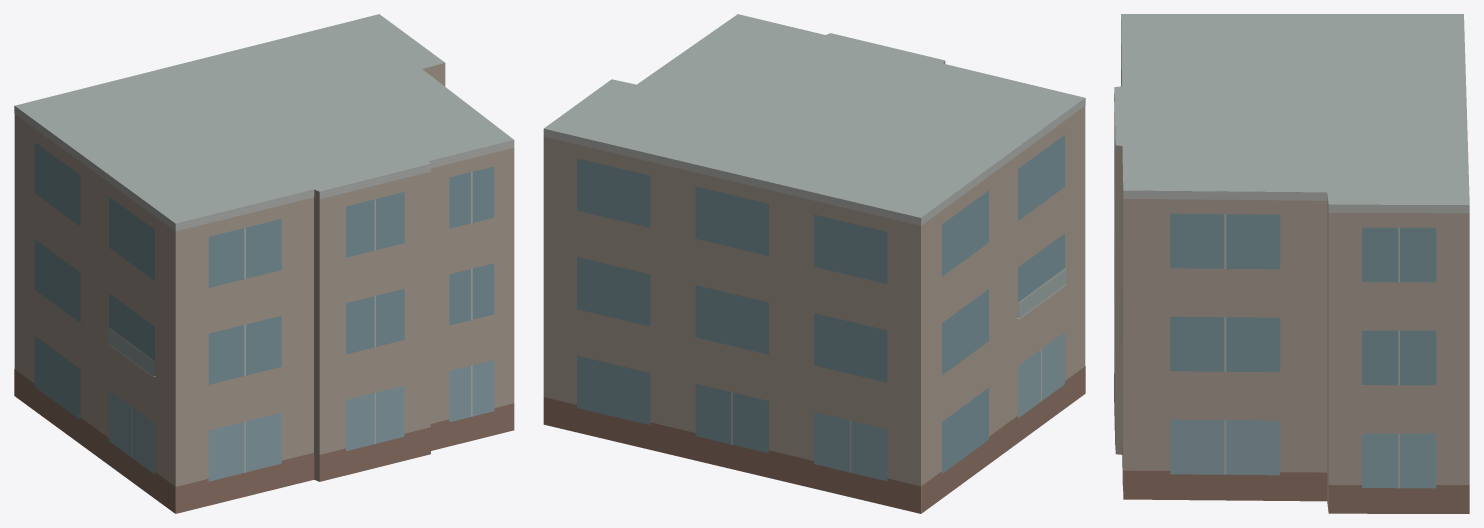
The model's file is survey-upis-33008272.glb.
The picture shows the model from 3 angles, left to right: view 1: azimuth 30°, elevation 25°; view 2: azimuth 150°, elevation 25°; view 3: azimuth 270°, elevation 25°; orthographic projection. The views are drawn at different scales.
Visible parts, largest first — view 1: survey-upis-33008272.tmp; view 2: survey-upis-33008272.tmp; view 3: survey-upis-33008272.tmp.
Part boxes in pixels (<box>): survey-upis-33008272.tmp: <box>14,14,514,513</box>; survey-upis-33008272.tmp: <box>543,14,1085,513</box>; survey-upis-33008272.tmp: <box>1114,14,1469,513</box>.
Bounding box in the file's own units: 12.1 × 9.1 × 9.5.
